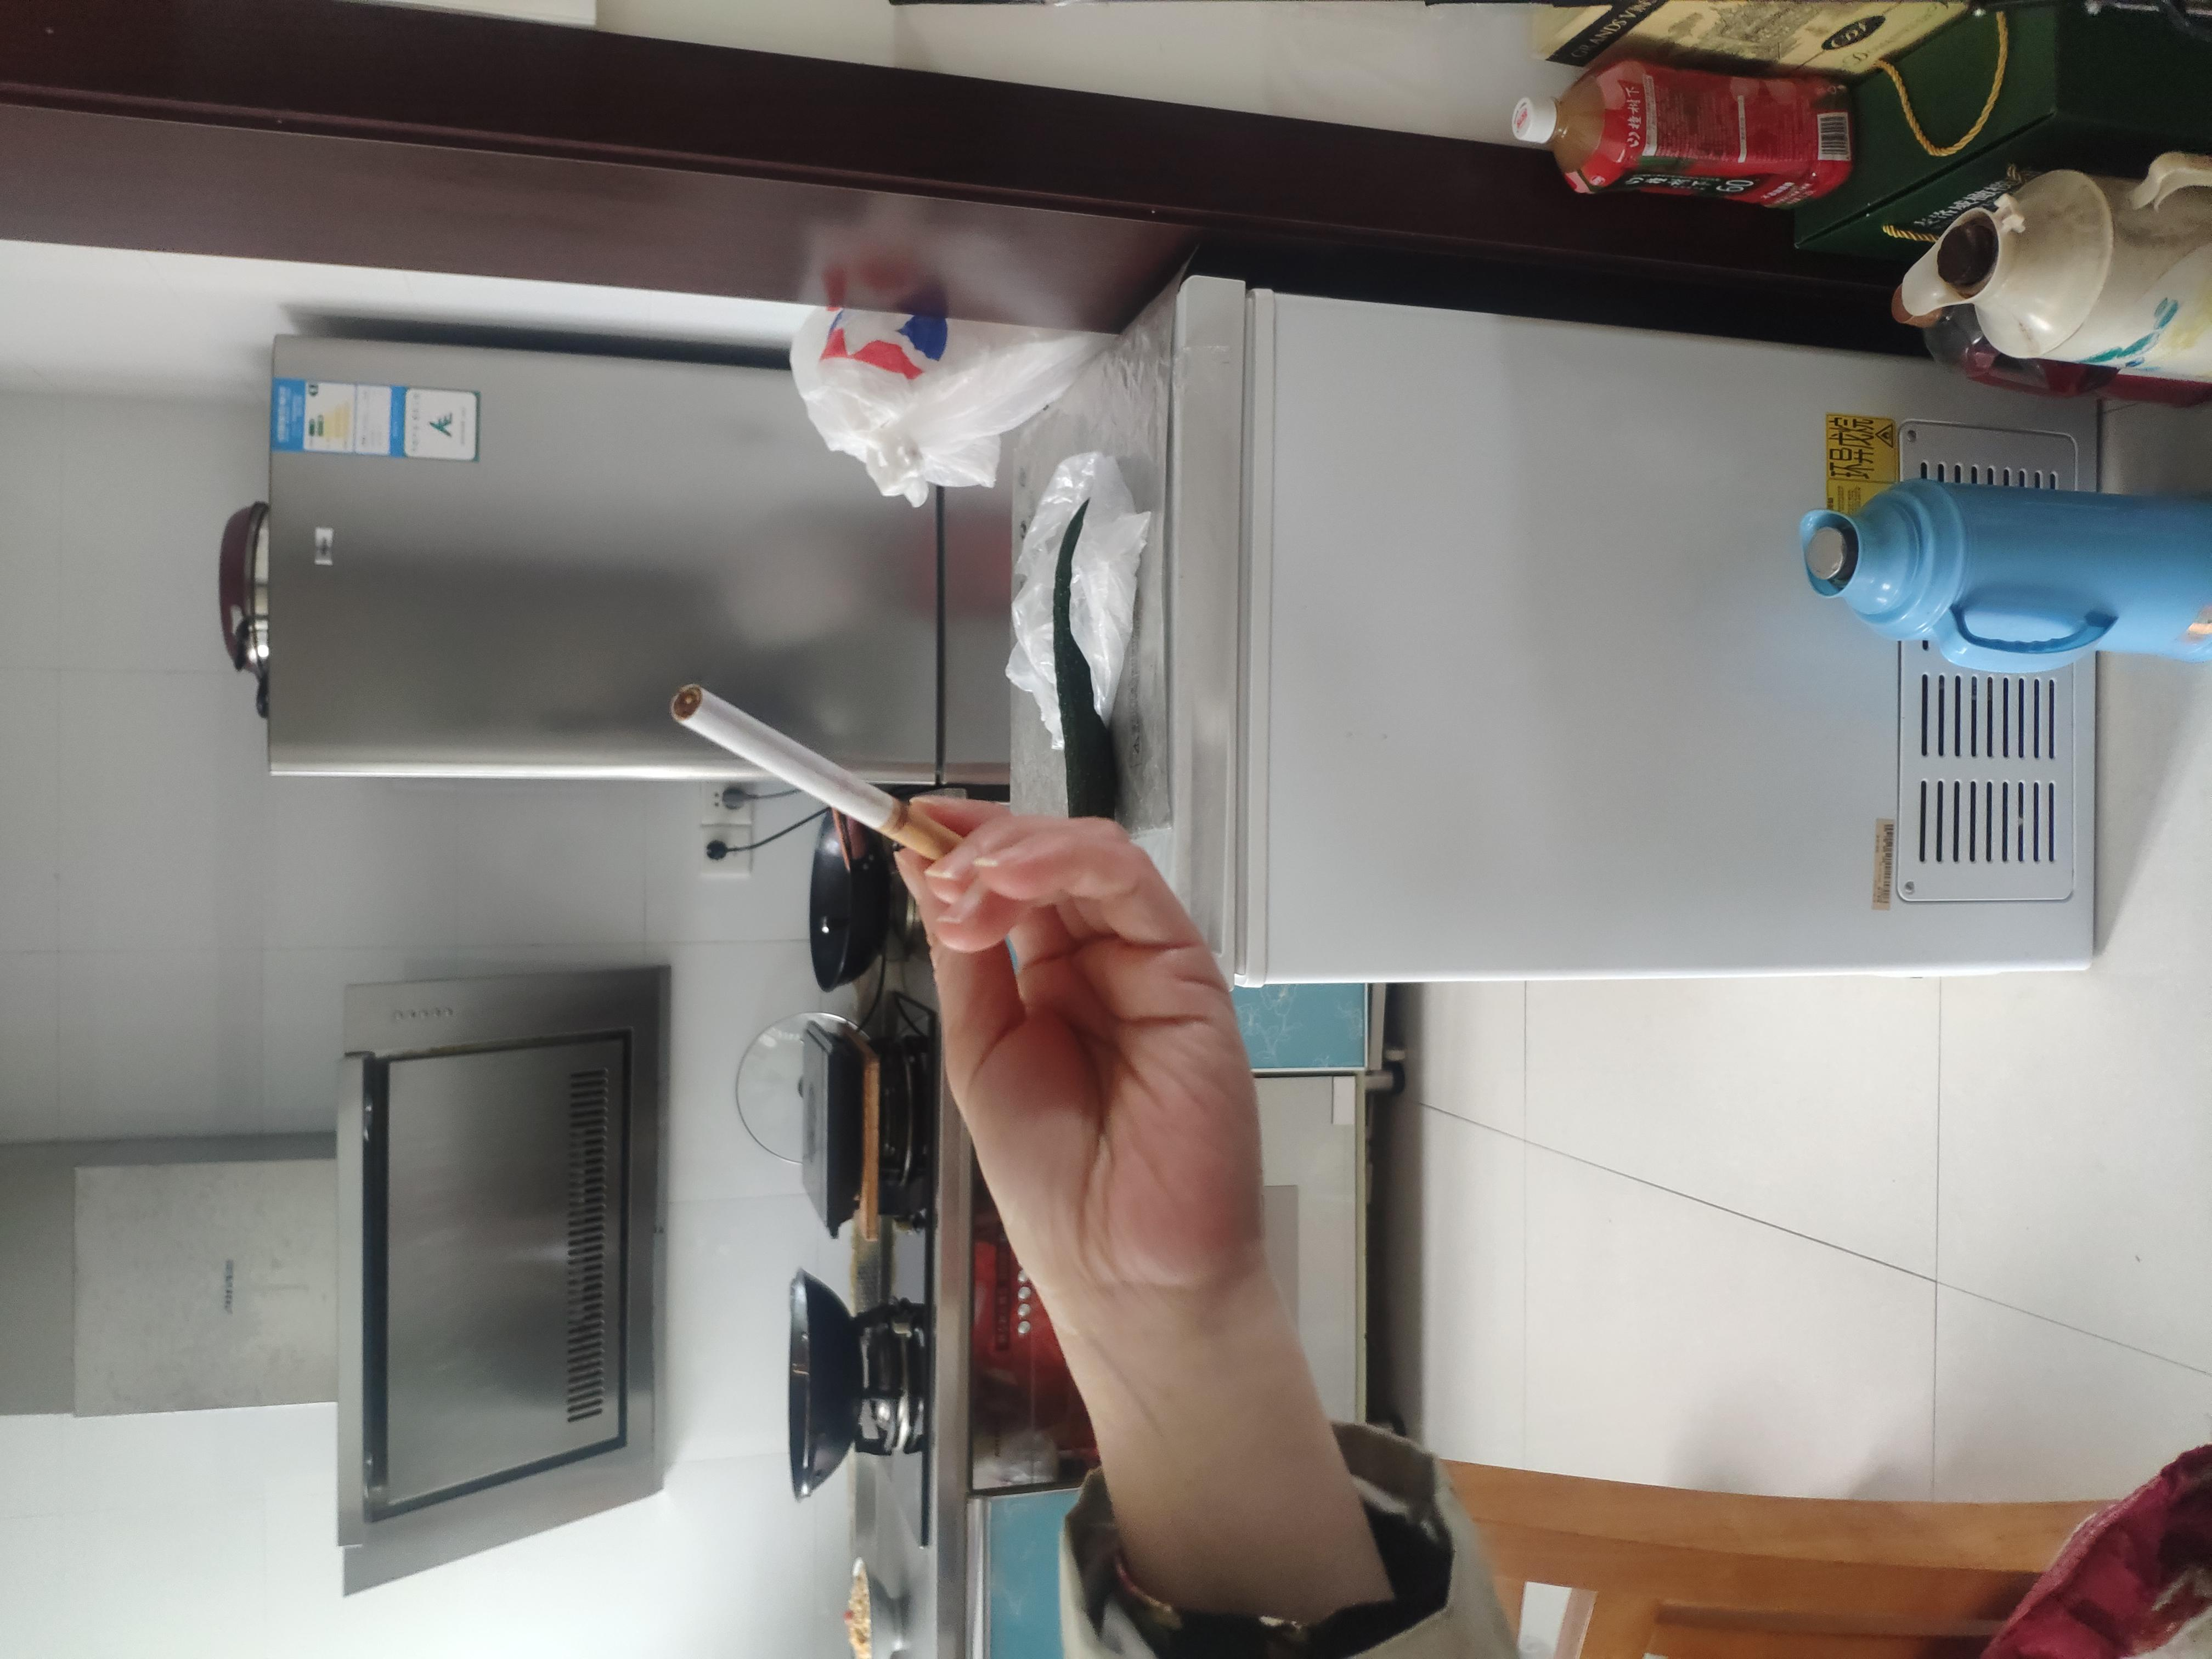smoke: (1025, 502, 1307, 747)
